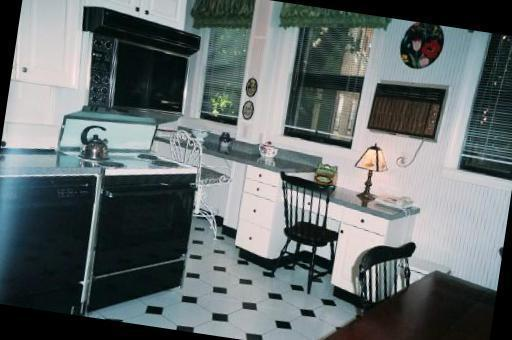Electrodomestico: (38, 115, 204, 296), (0, 161, 100, 313)
